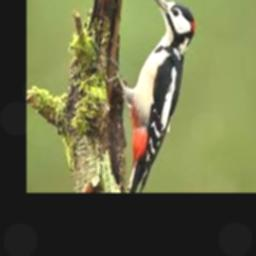Woodpecker: (105, 0, 194, 193)
